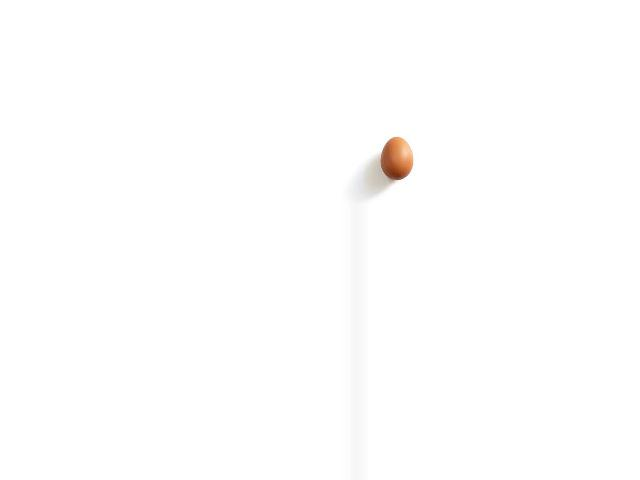egg: (381, 136, 413, 180)
